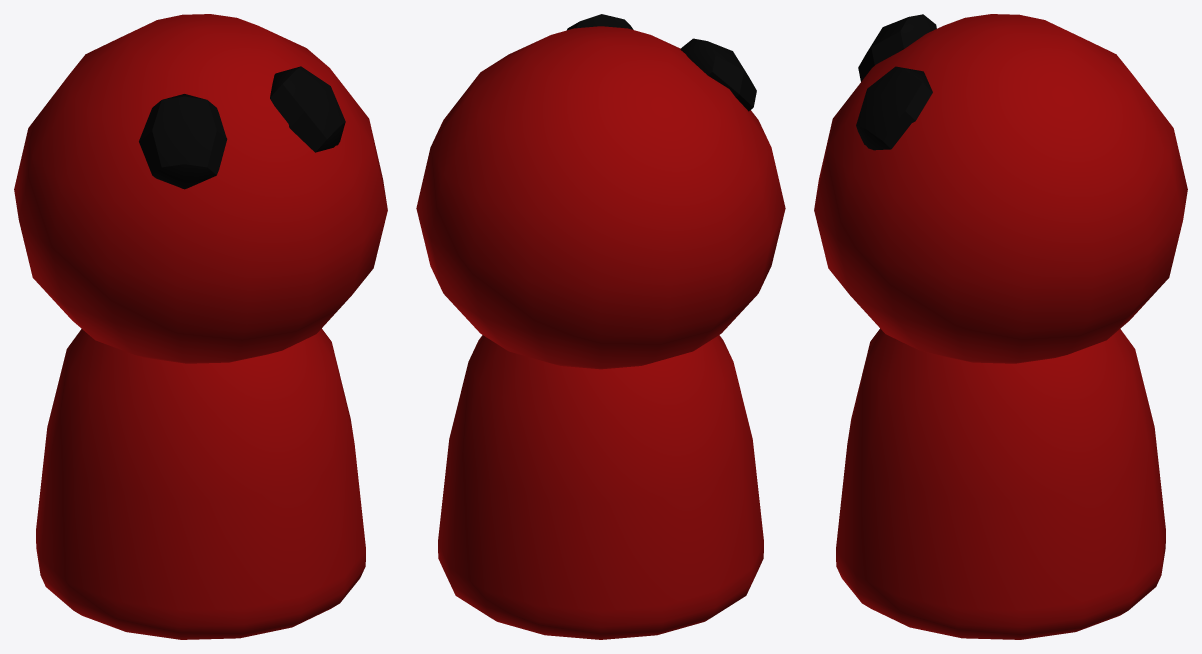
Rendered from stickman.fbx.
3 views of the same model, side by side, from view 1: azimuth 30°, elevation 25°; view 2: azimuth 150°, elevation 25°; view 3: azimuth 270°, elevation 25° (orthographic). The views are drawn at different scales.
Visible parts, largest first — view 1: stickman; view 2: stickman; view 3: stickman.
Boxes of the visible parts, x1,y1,x2,y2 form: stickman: (14,14,387,639); stickman: (416,14,785,639); stickman: (814,14,1187,639).
Bounding box in the file's own units: 28.48 × 45.95 × 28.48.
